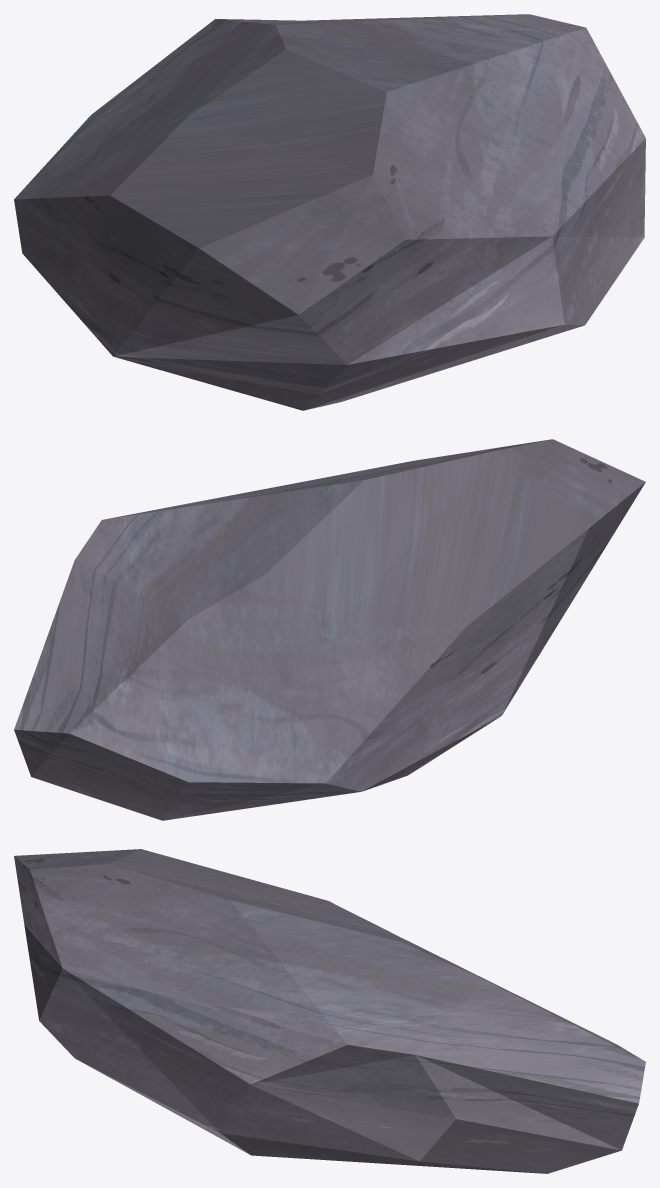
File: rock_2_009.fbx
The picture shows the model from 3 angles, top to bottom: view 1: azimuth 30°, elevation 25°; view 2: azimuth 150°, elevation 25°; view 3: azimuth 270°, elevation 25°; orthographic projection. The views are drawn at different scales.
Visible parts, largest first — view 1: rock 2.009; view 2: rock 2.009; view 3: rock 2.009.
Boxes of the visible parts, <box> form: rock 2.009: <box>14,14,645,410</box>; rock 2.009: <box>14,439,645,820</box>; rock 2.009: <box>14,849,645,1173</box>.
Bounding box in the file's own units: 343 × 188 × 492.
